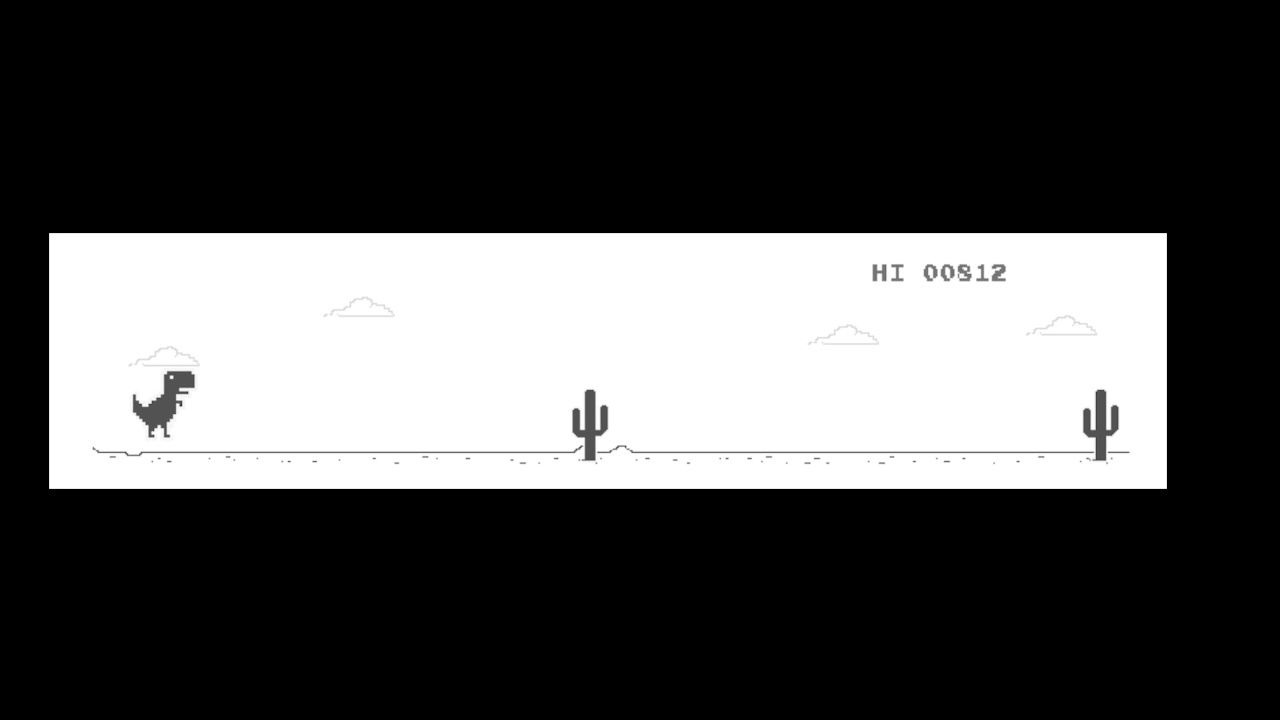bigone: (569, 387, 613, 466), (1080, 389, 1121, 461)
dino: (128, 367, 199, 440)
